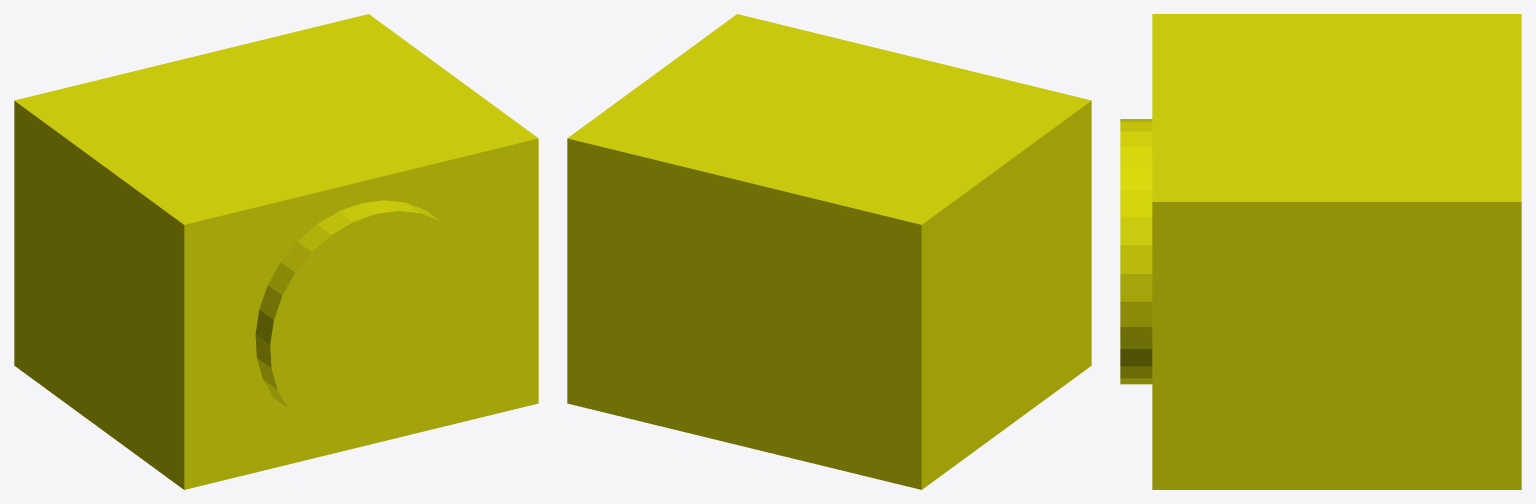
The model's file is gripper.dae.
The picture shows the model from 3 angles, left to right: view 1: azimuth 30°, elevation 25°; view 2: azimuth 150°, elevation 25°; view 3: azimuth 270°, elevation 25°; orthographic projection. The views are drawn at different scales.
Parts seen in each view (by area): view 1: schunkGrippe; view 2: schunkGrippe; view 3: schunkGrippe.
Part boxes in pixels (x1=…): schunkGrippe: x1=14, y1=14, x2=538, y2=489; schunkGrippe: x1=567, y1=14, x2=1091, y2=489; schunkGrippe: x1=1120, y1=14, x2=1521, y2=489.
Size of the model in its own units: 0.112 by 0.101 by 0.08.
